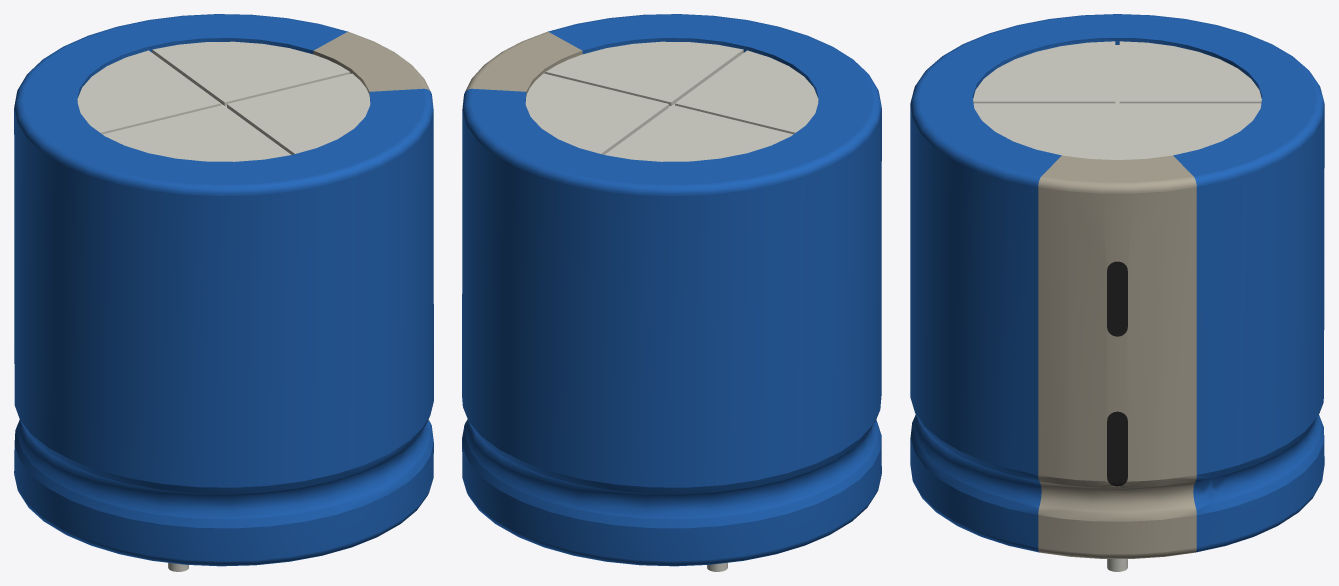
Rendered from kc-cp_radial_d10.0mm_p2.50mm.glb.
3 renders of one model, left to right at view 1: azimuth 30°, elevation 25°; view 2: azimuth 150°, elevation 25°; view 3: azimuth 270°, elevation 25°, orthographic.
Parts seen in each view (by area): view 1: 0_0.16666666666666666_0.5_0, 0.6666666666666666_0.6666666666666666_0.5833333333333334_0.8, 0.4166666666666667_0.4166666666666667_0.3333333333333333_0; view 2: 0_0.16666666666666666_0.5_0, 0.6666666666666666_0.6666666666666666_0.5833333333333334_0.8, 0.4166666666666667_0.4166666666666667_0.3333333333333333_0; view 3: 0_0.16666666666666666_0.5_0, 0.4166666666666667_0.4166666666666667_0.3333333333333333_0, 0.6666666666666666_0.6666666666666666_0.5833333333333334_0.8, 0_0_0_0.
Boxes of the visible parts, x1,y1,x2,y2 form: 0_0.16666666666666666_0.5_0: (14,14,433,566); 0.6666666666666666_0.6666666666666666_0.5833333333333334_0.8: (77,41,370,571); 0.4166666666666667_0.4166666666666667_0.3333333333333333_0: (313,32,430,421); 0_0.16666666666666666_0.5_0: (462,14,881,566); 0.6666666666666666_0.6666666666666666_0.5833333333333334_0.8: (525,41,818,571); 0.4166666666666667_0.4166666666666667_0.3333333333333333_0: (465,32,582,422); 0_0.16666666666666666_0.5_0: (910,14,1324,552); 0.4166666666666667_0.4166666666666667_0.3333333333333333_0: (1038,155,1196,558); 0.6666666666666666_0.6666666666666666_0.5833333333333334_0.8: (973,41,1261,571); 0_0_0_0: (1107,261,1127,486).
Size of the model in its own units: 1 by 1.2 by 0.9998.
